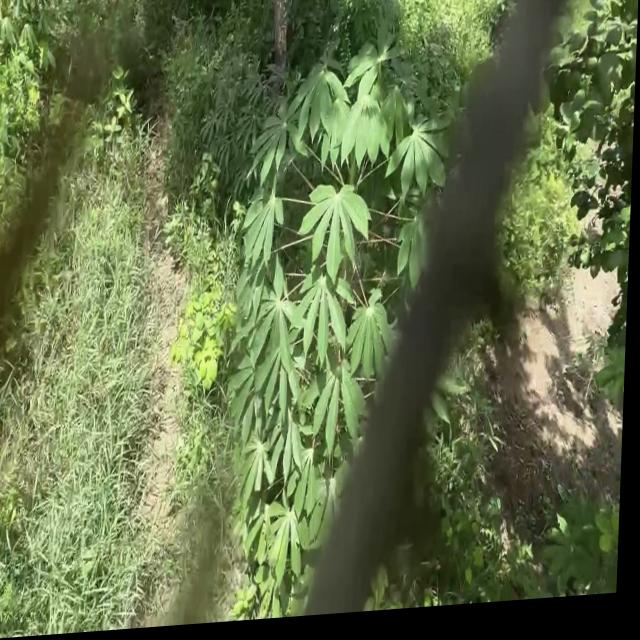Maleza: (17, 429, 185, 635), (38, 325, 150, 463), (75, 199, 168, 330), (516, 482, 615, 593), (164, 232, 232, 384), (151, 29, 199, 218), (507, 181, 584, 288)
